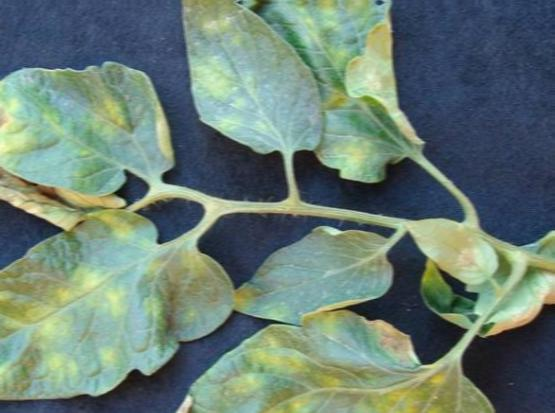Tomato mold leaf: (0, 211, 234, 410), (139, 304, 511, 413), (229, 0, 450, 179), (164, 0, 350, 158), (0, 49, 182, 193), (214, 226, 422, 324), (390, 206, 517, 290)
